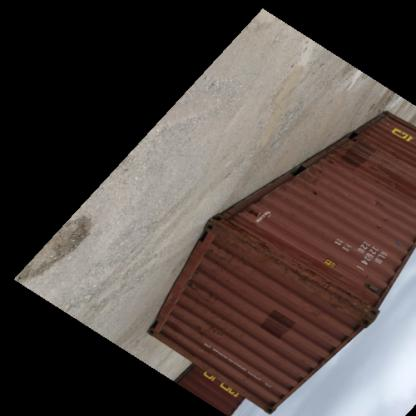Damage: (284, 251, 378, 321), (211, 204, 275, 272), (300, 151, 348, 205), (186, 320, 239, 356), (183, 274, 228, 310), (364, 194, 398, 238), (368, 156, 404, 184), (348, 128, 381, 148)
